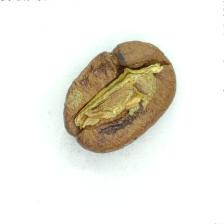NG: (75, 63, 163, 128)
